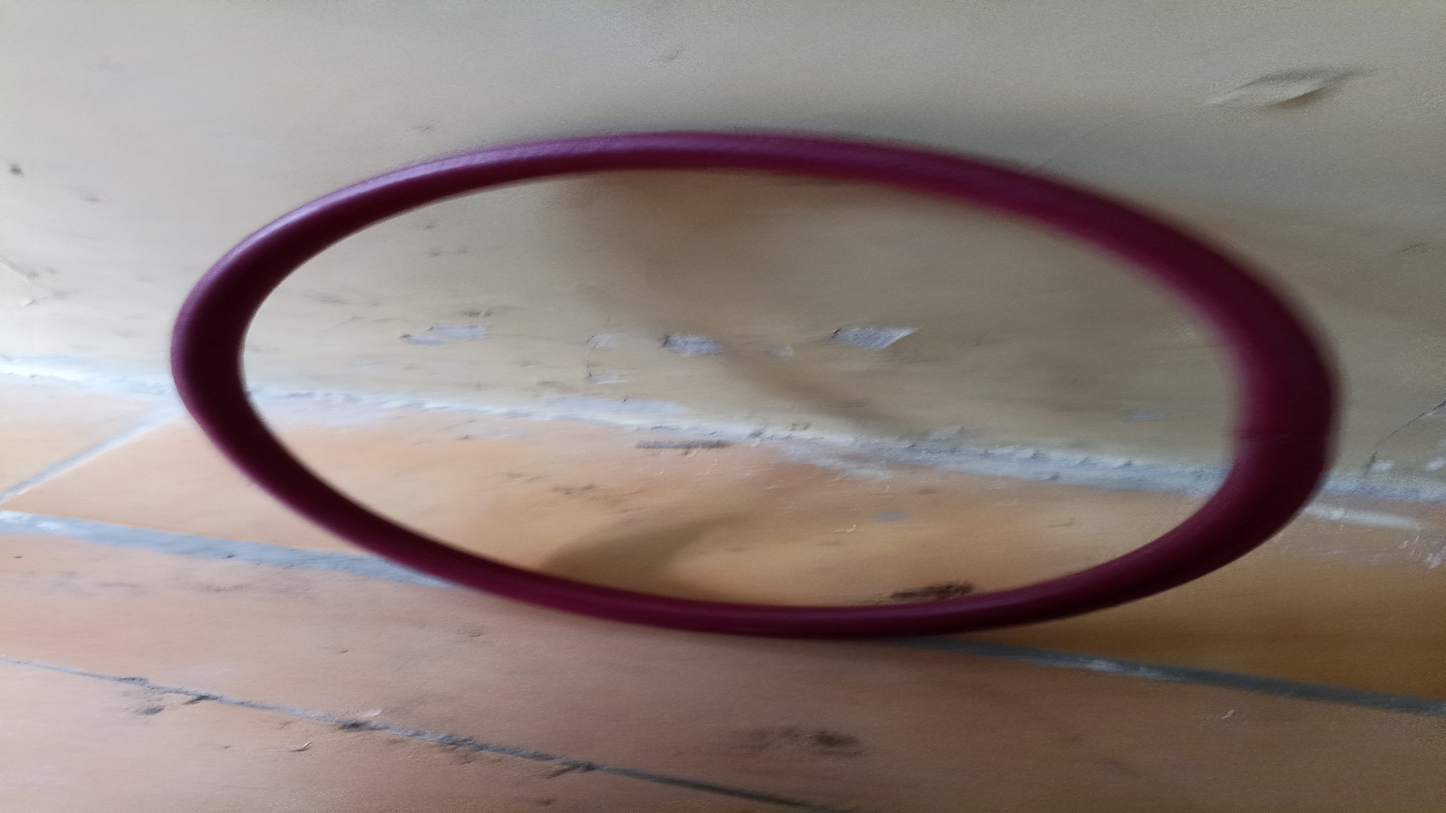Red ring: (172, 136, 1335, 635)
